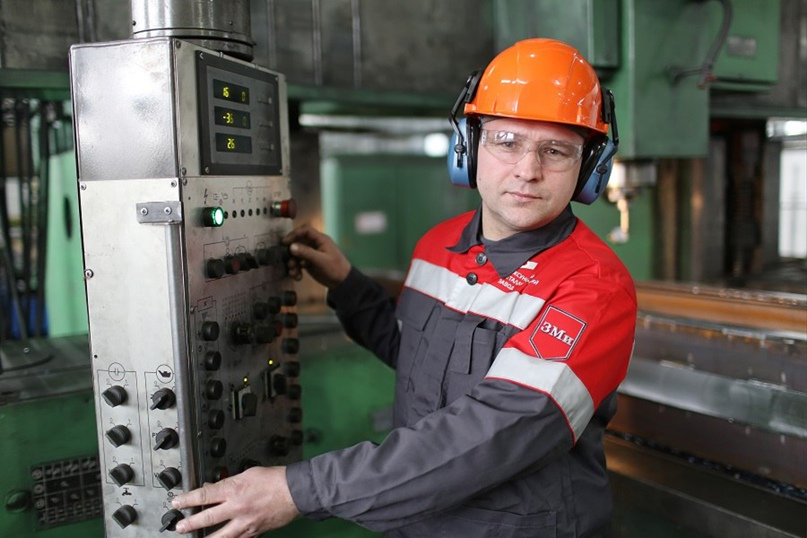person: (172, 38, 638, 538)
